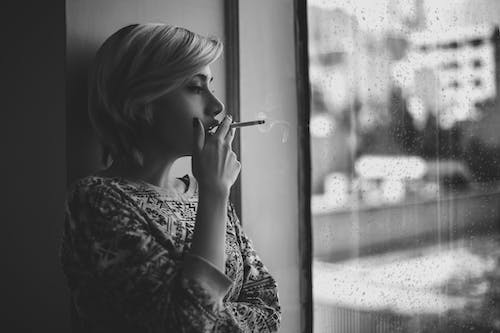cigarette: (229, 118, 264, 130)
